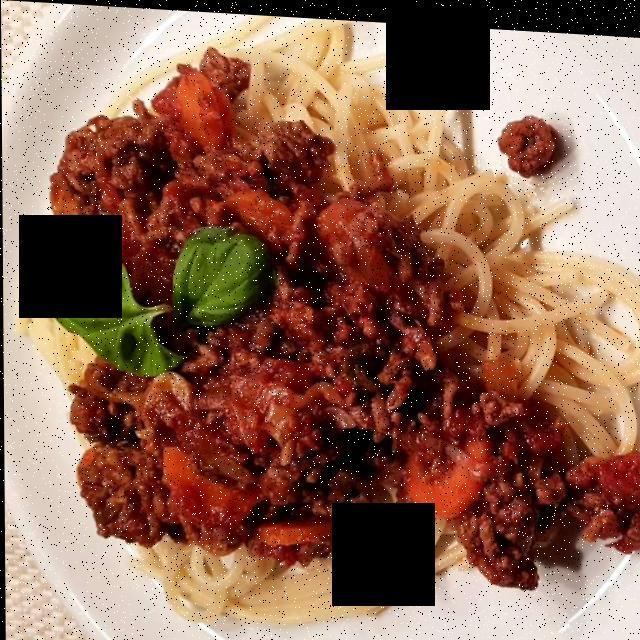bolognaise-sauce: (51, 46, 627, 590)
pasta: (27, 32, 631, 613)
